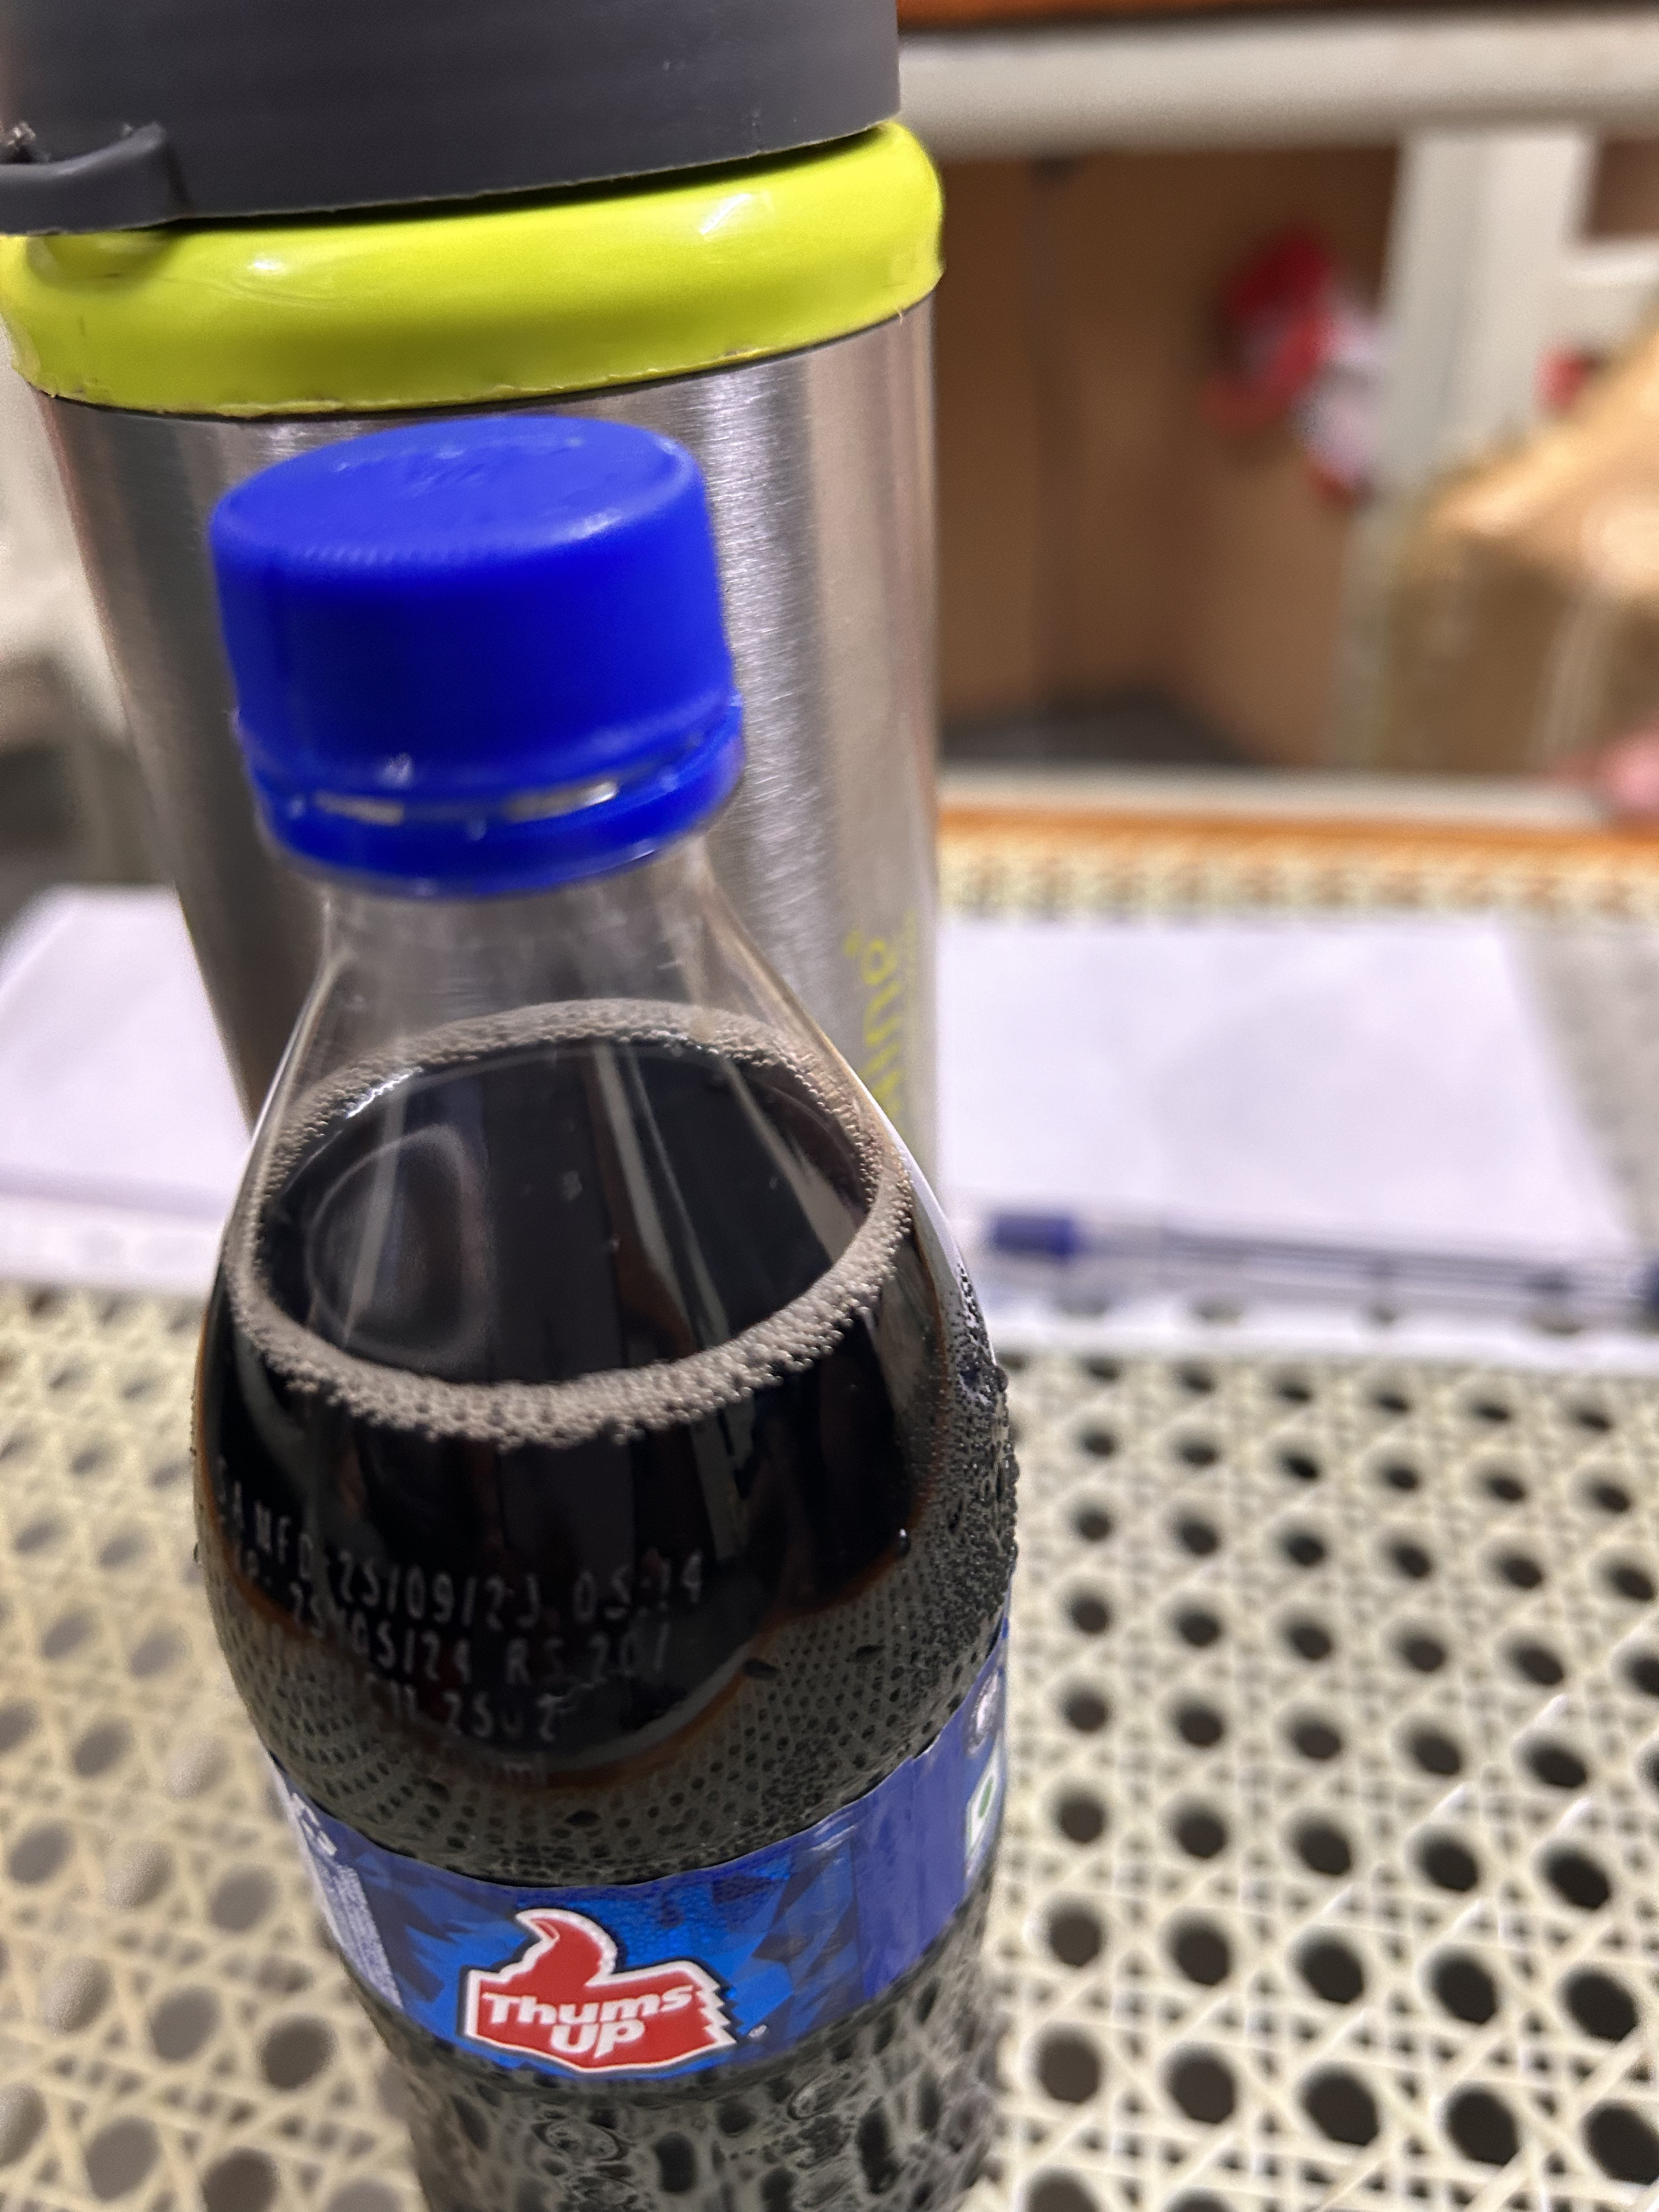unsealed: (186, 435, 756, 920)
